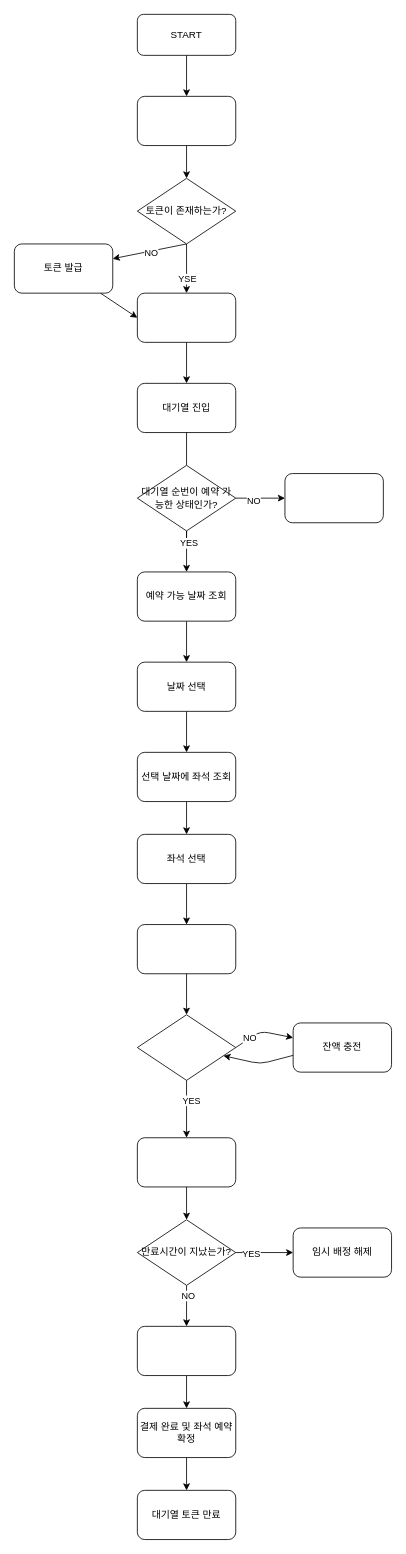
The diagram is 406 pixels wide and 1554 high, and some of its shapes have lost their labels. Each missing label, with the box of its shape:
결제 진행: (137, 1326, 236, 1376)
대기 순번 반환(WAIT): (284, 473, 383, 523)
잔액이 충분한가?: (137, 1014, 236, 1080)
좌석 결제: (137, 1137, 236, 1187)
토큰 발급 요청: (137, 96, 236, 146)
토큰 확인: (137, 292, 236, 342)
해당 좌석 임시 배정 및 만료 시간 설정: (137, 924, 236, 974)
